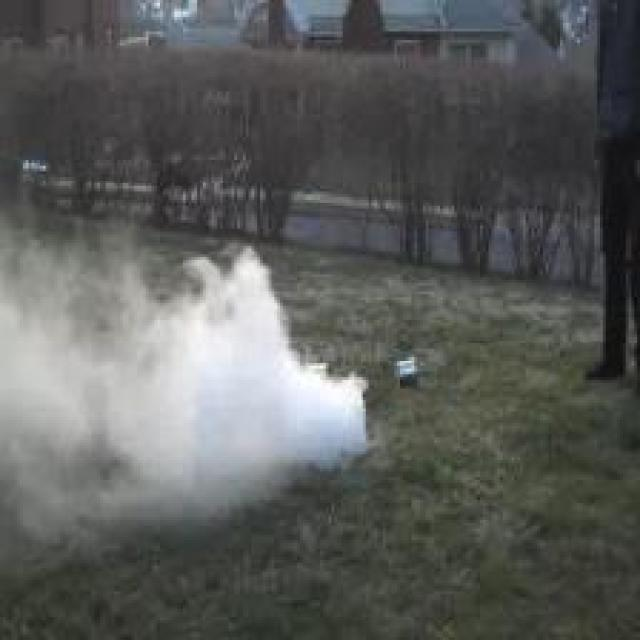Smoke: (0, 216, 369, 580)
